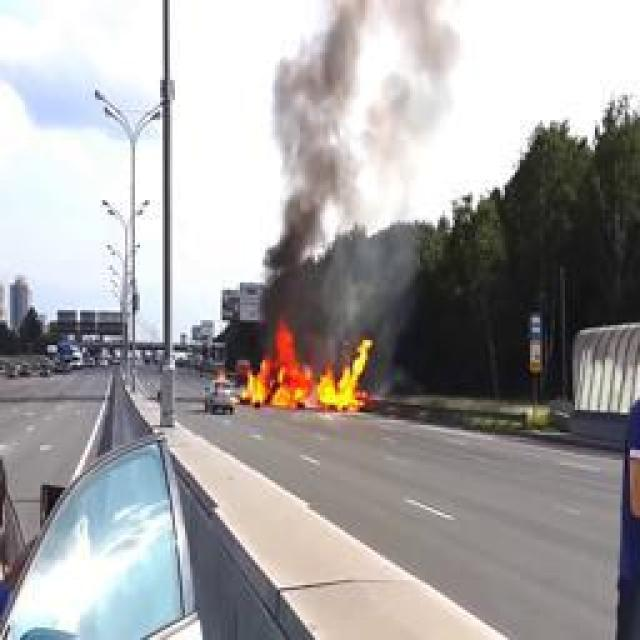Fire: (244, 321, 372, 414)
